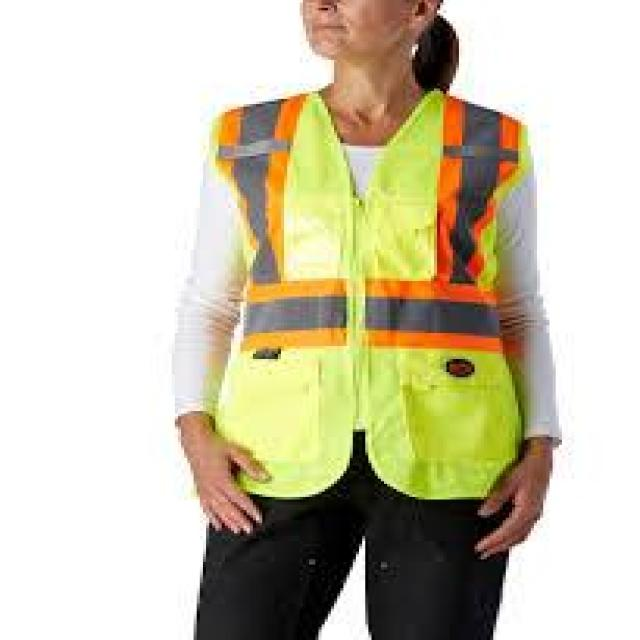vest: (211, 95, 529, 506)
